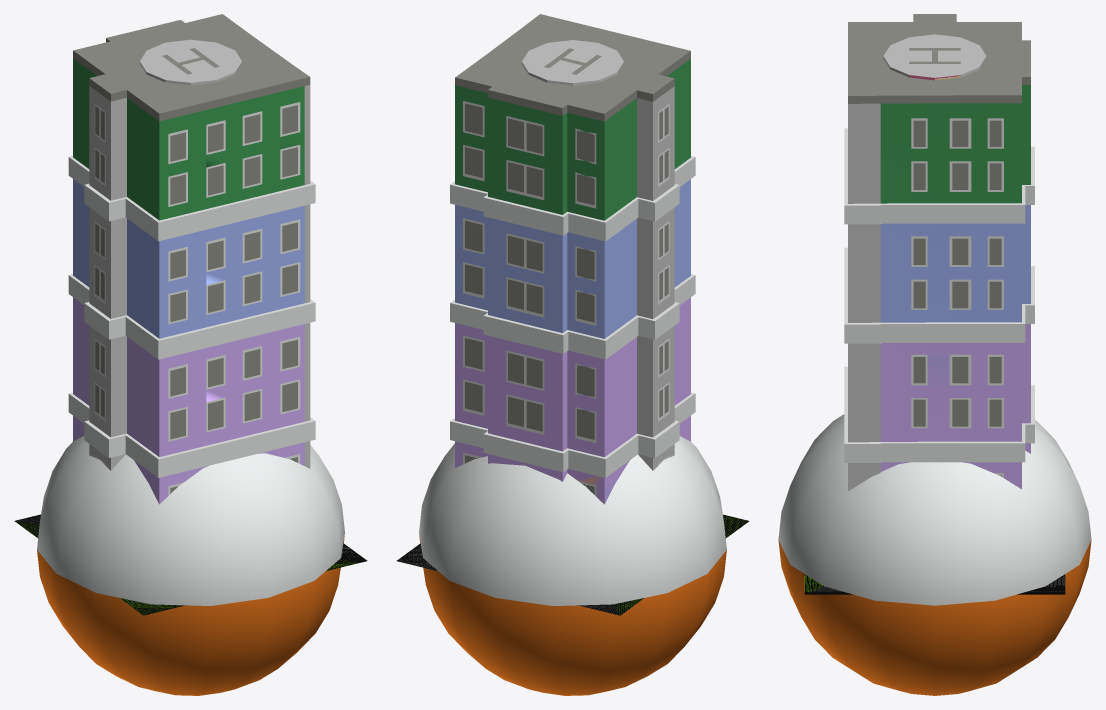
3 views of the same model, side by side, from view 1: azimuth 30°, elevation 25°; view 2: azimuth 150°, elevation 25°; view 3: azimuth 270°, elevation 25° (orthographic).
Visible parts, largest first — view 1: Ball, Building_4, Building_2, Building_3, Building_1; view 2: Ball, Building_4, Building_2, Building_3, Building_1; view 3: Ball, Building_4, Building_2, Building_3, Building_1.
Boxes of the visible parts, x1,y1,x2,y2 form: Ball: [37, 436, 344, 695]; Building_4: [73, 14, 310, 220]; Building_2: [14, 274, 367, 615]; Building_3: [68, 156, 315, 440]; Building_1: [68, 392, 315, 477]; Ball: [419, 436, 726, 695]; Building_4: [455, 14, 690, 220]; Building_2: [397, 274, 748, 615]; Building_3: [450, 156, 695, 500]; Building_1: [450, 392, 695, 493]; Ball: [778, 414, 1091, 695]; Building_4: [848, 14, 1030, 203]; Building_2: [804, 247, 1065, 594]; Building_3: [844, 128, 1034, 385]; Building_1: [844, 366, 1034, 491].
Bounding box in the file's own units: 1.2 × 2.64 × 1.2.
